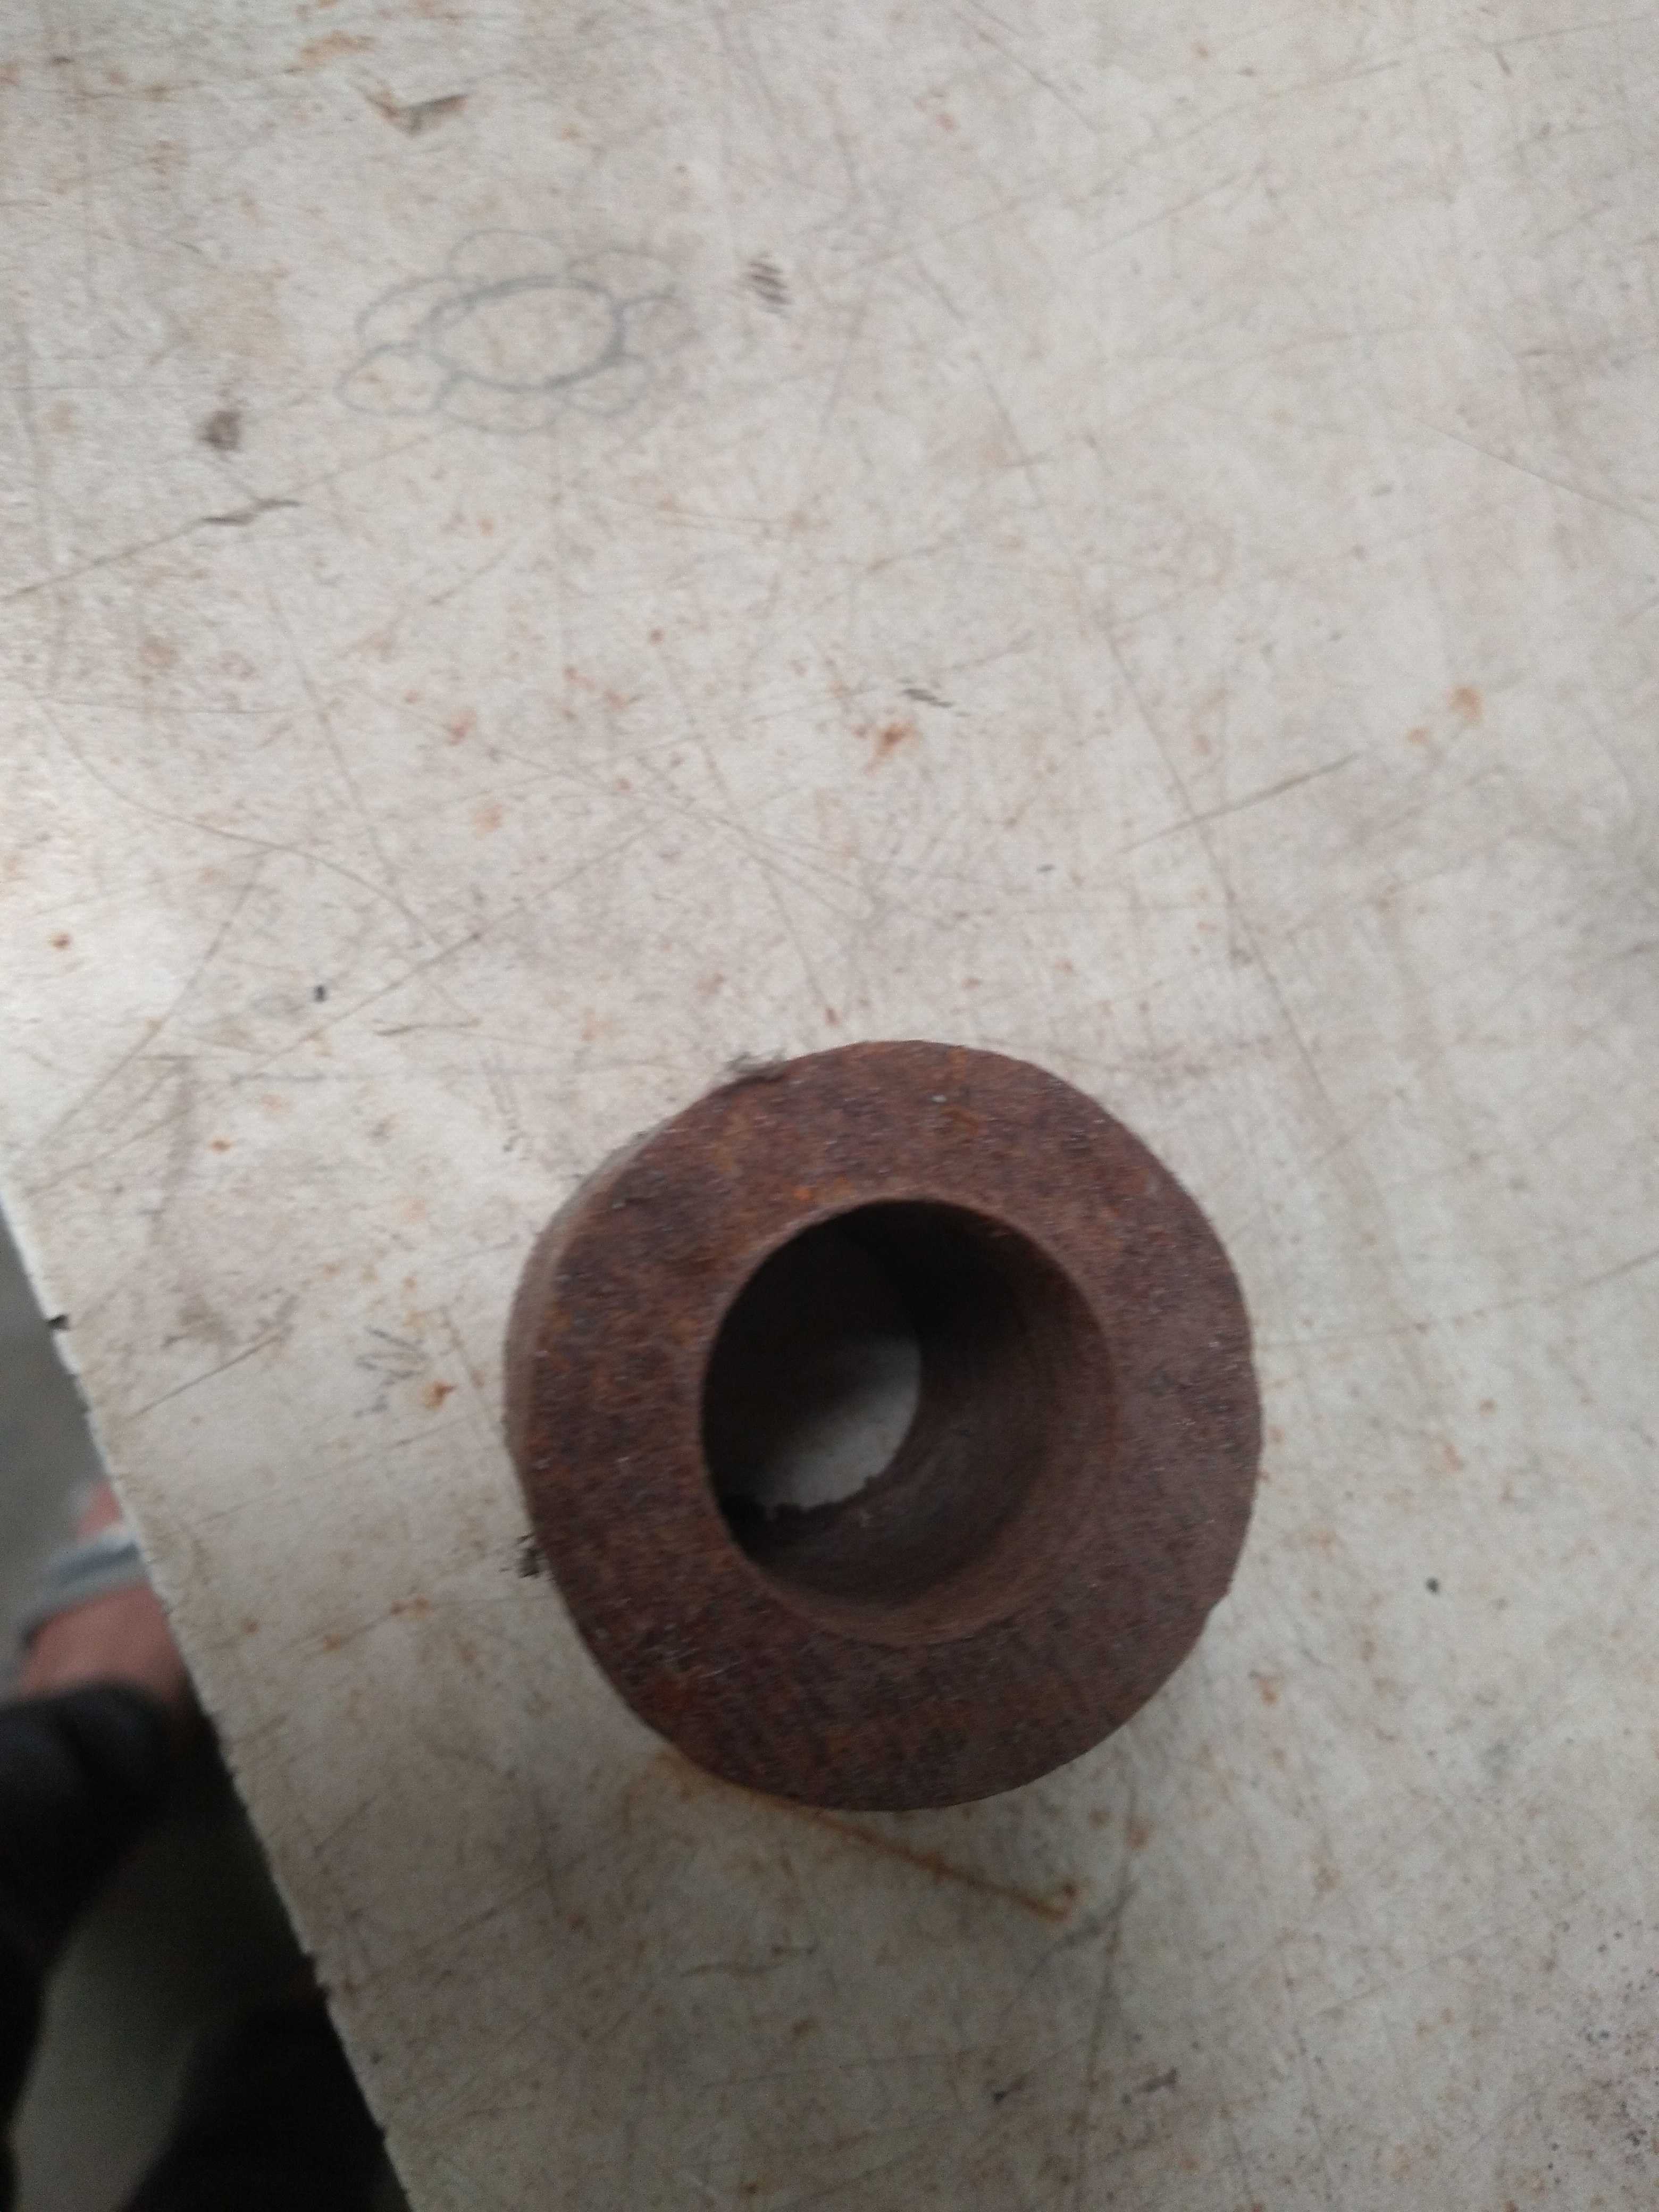No thread: (694, 1153, 1166, 1669)
